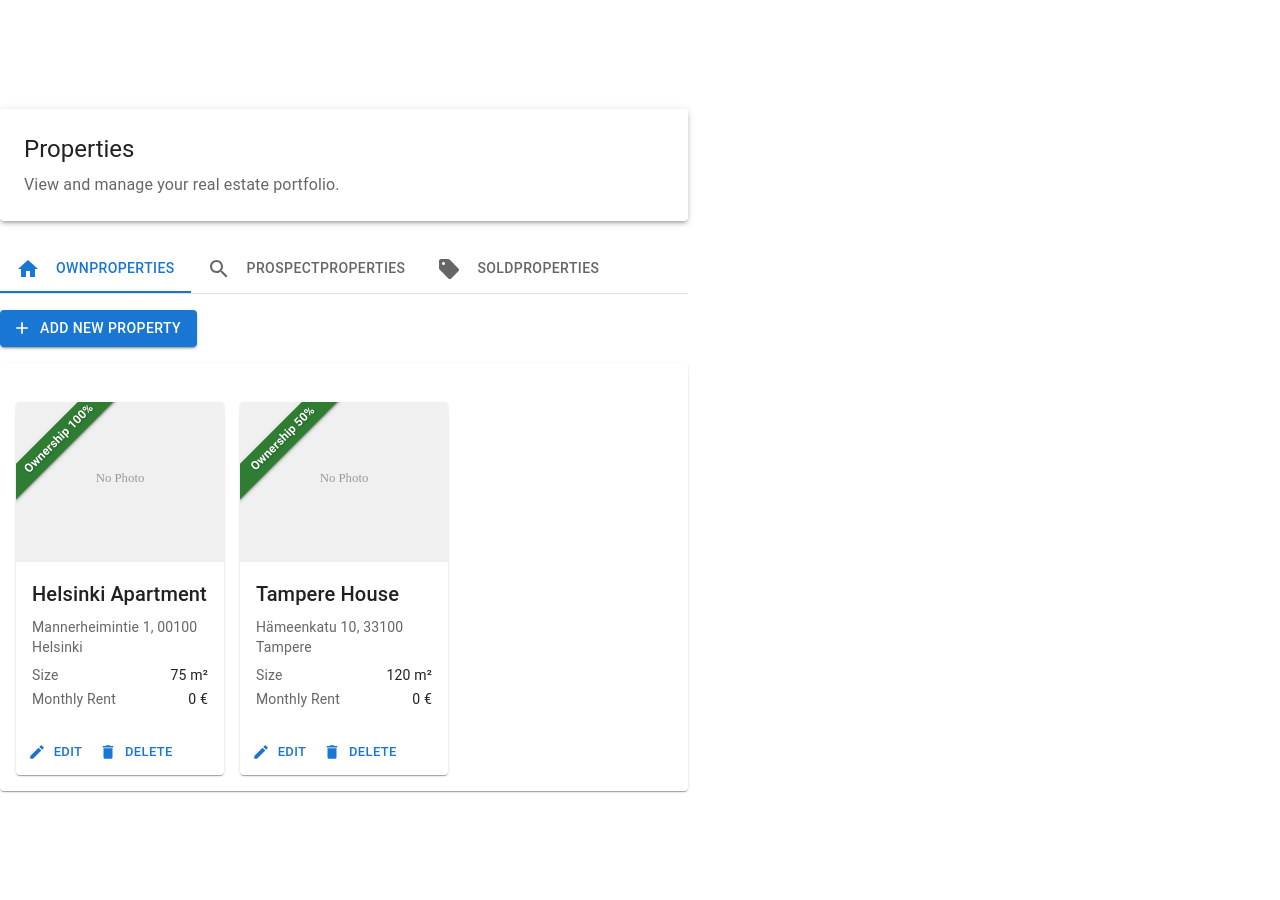
Test case: Properties Integration › Happy path › deletes property when confirmed
Expected: the text "Helsinki Apartment" is shown, [32,578,208,610]
# Open delete dialog for first property
Click the 1st button "Delete" at (137, 752), box [96,737,178,767]
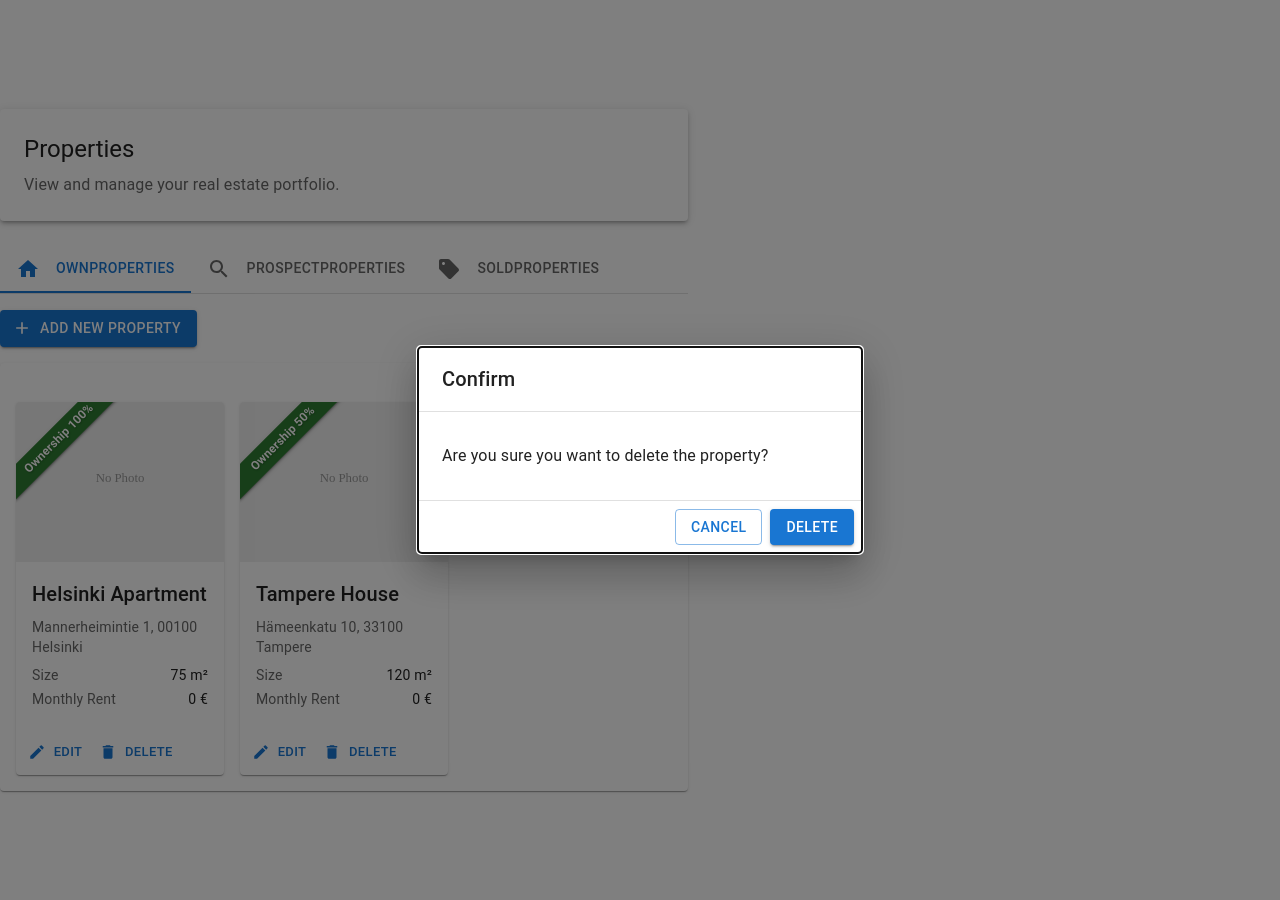
Now the text "Are you sure you want to delete the property?" is shown, box [442,446,768,465]
# Click confirm delete (the delete button in the dialog, which is the last one)
Click the button "Delete" at (812, 527), box [770,509,854,545]
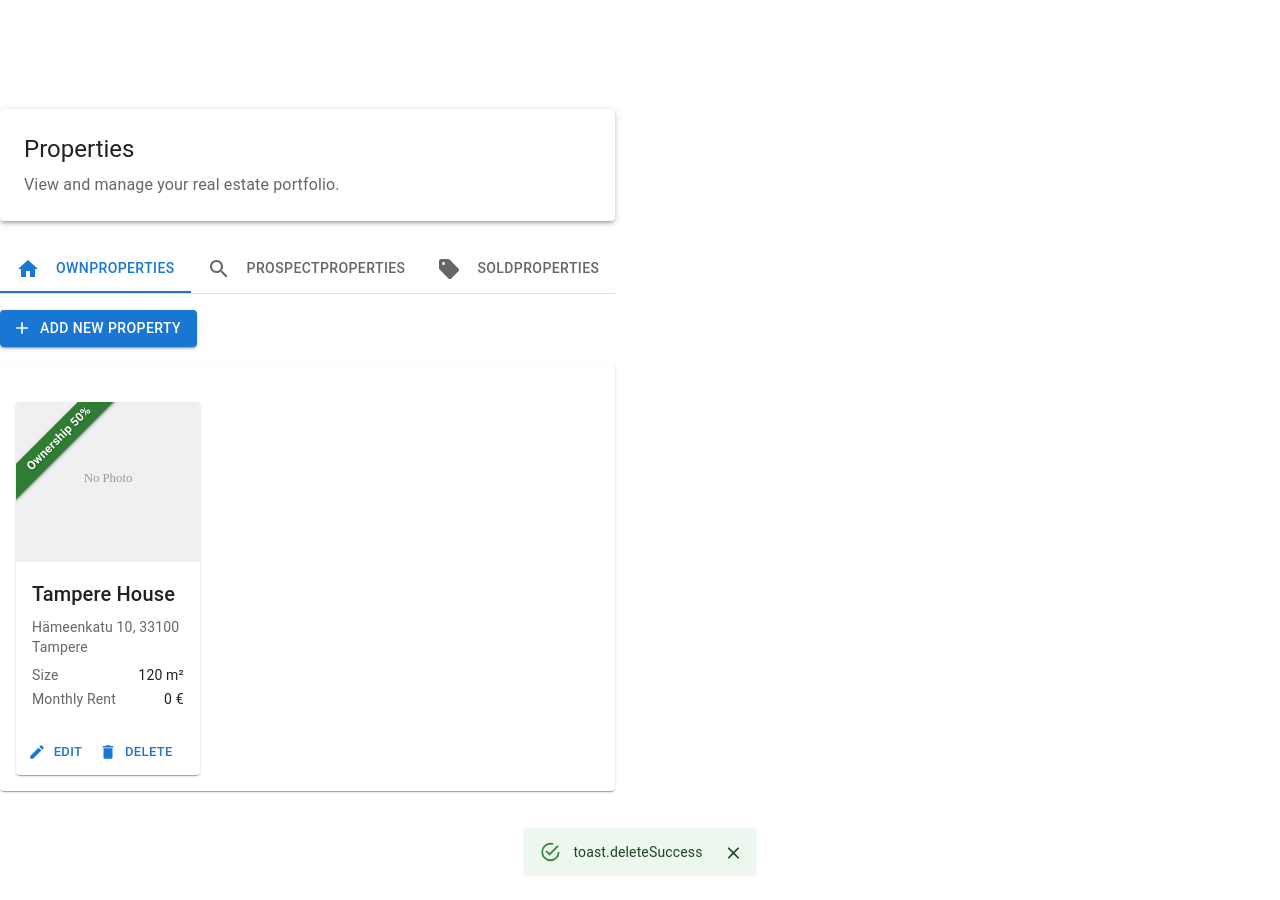
Expected: the text "Tampere House" is shown, [32,578,184,610]
Now the text "Are you sure you want to delete" is gone
Now the button "Helsinki Apartment" is gone
